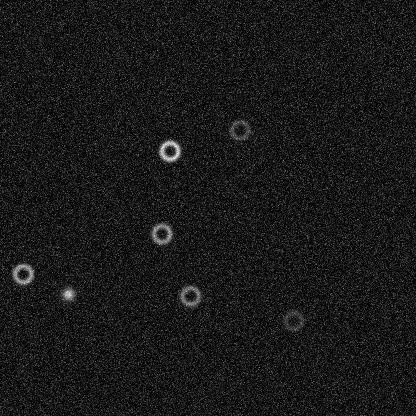Ring: (157, 138, 181, 162), (281, 308, 305, 332), (149, 221, 173, 245), (178, 283, 202, 307), (10, 261, 34, 285), (227, 117, 251, 141)
Spot: (60, 286, 76, 302)
